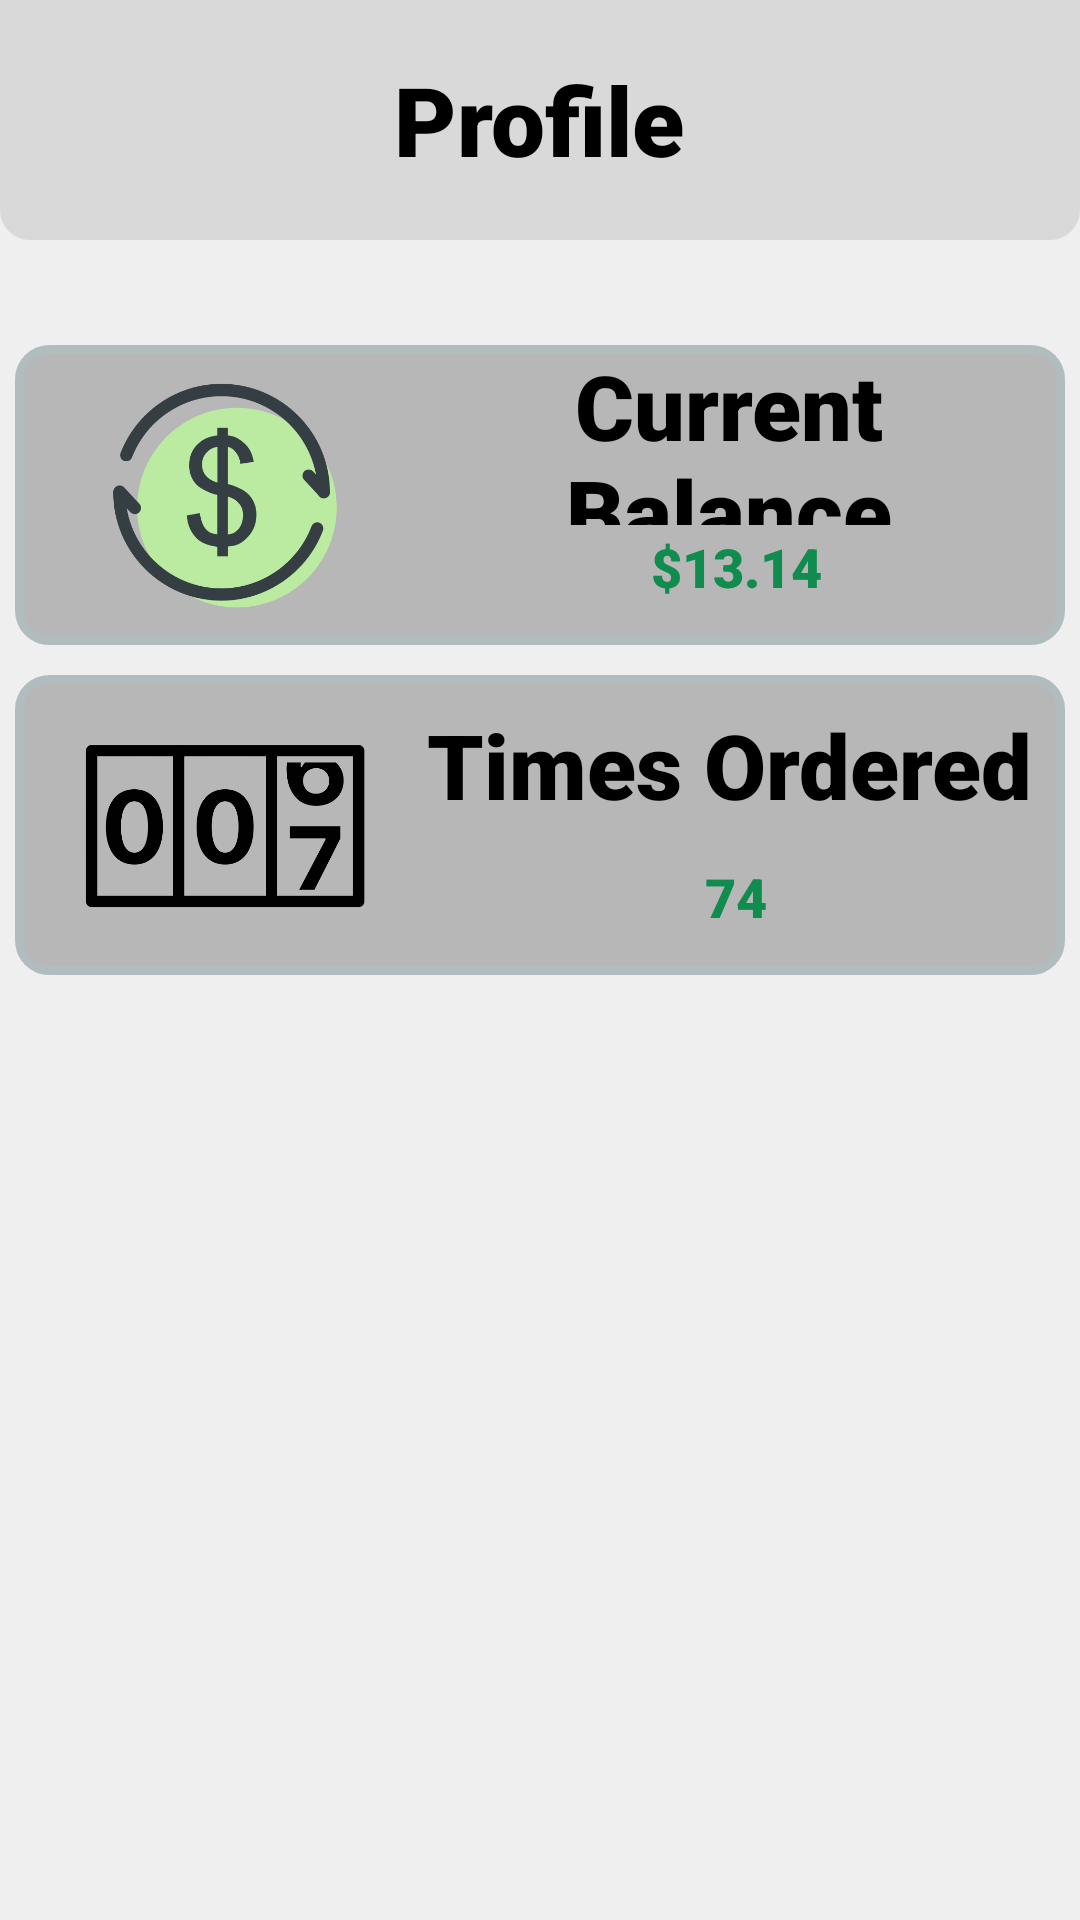

Where to tap for icons on this 1080x1920 app screen, as (x,y):
Money: (225,495)
